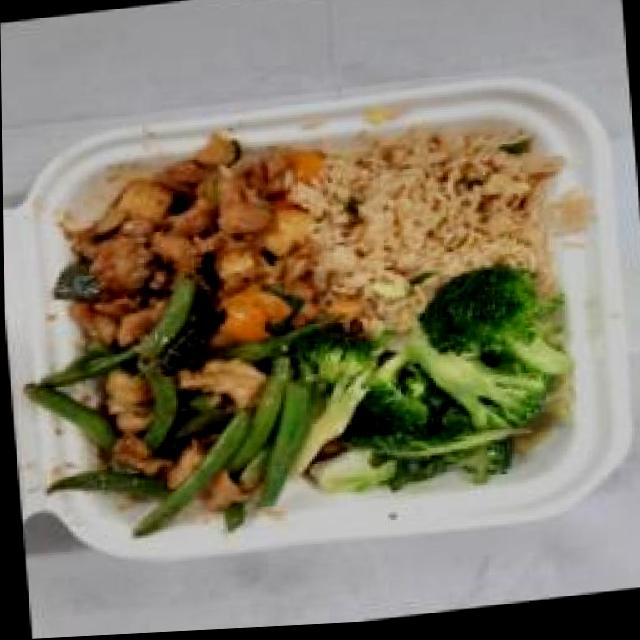Fried Rice: (302, 117, 559, 313)
Kung Pao Chicken: (50, 132, 335, 348)
String Bean Chicken Breast: (14, 289, 319, 550)
Super Greens: (298, 274, 584, 516)
